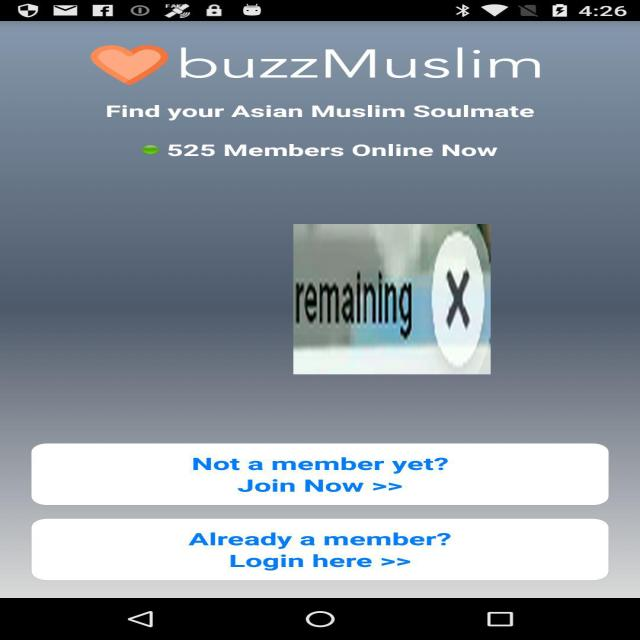misdirection: (293, 224, 491, 374)
